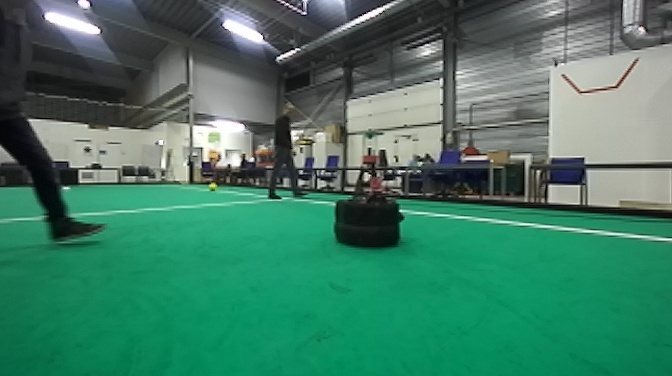ball: (208, 181, 219, 192)
human: (268, 101, 301, 202)
robot: (334, 130, 402, 251)
